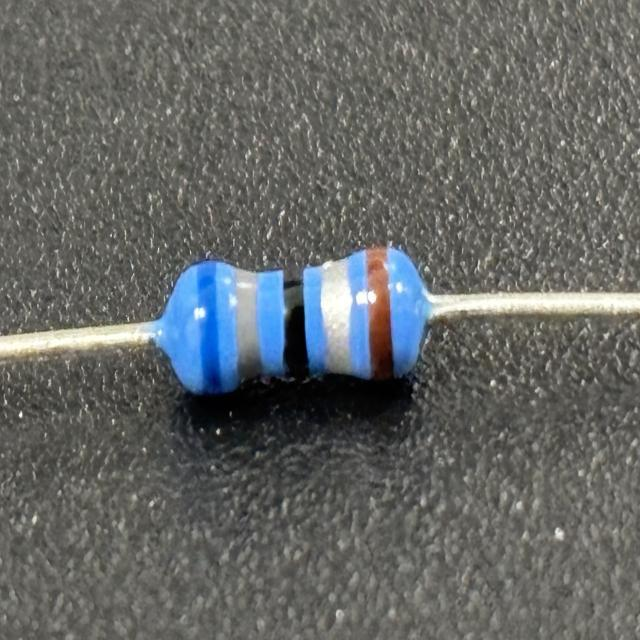resistor: (172, 239, 426, 405)
